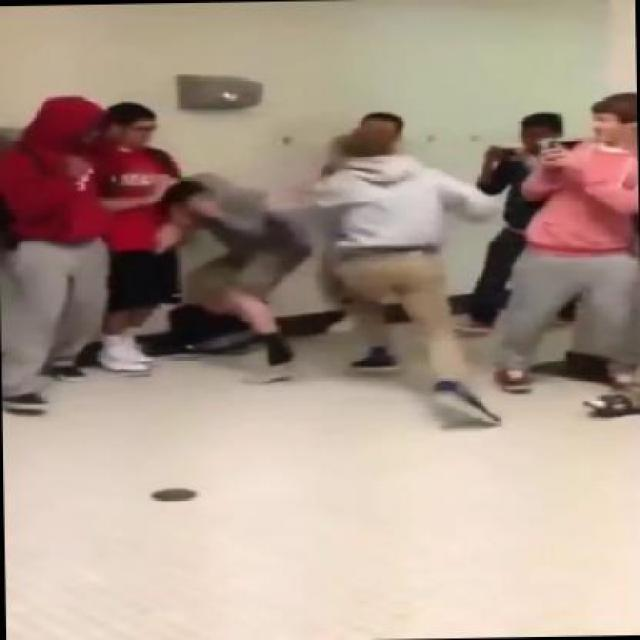fight: (148, 123, 510, 432)
non-fight: (496, 89, 639, 394), (0, 96, 125, 418)
